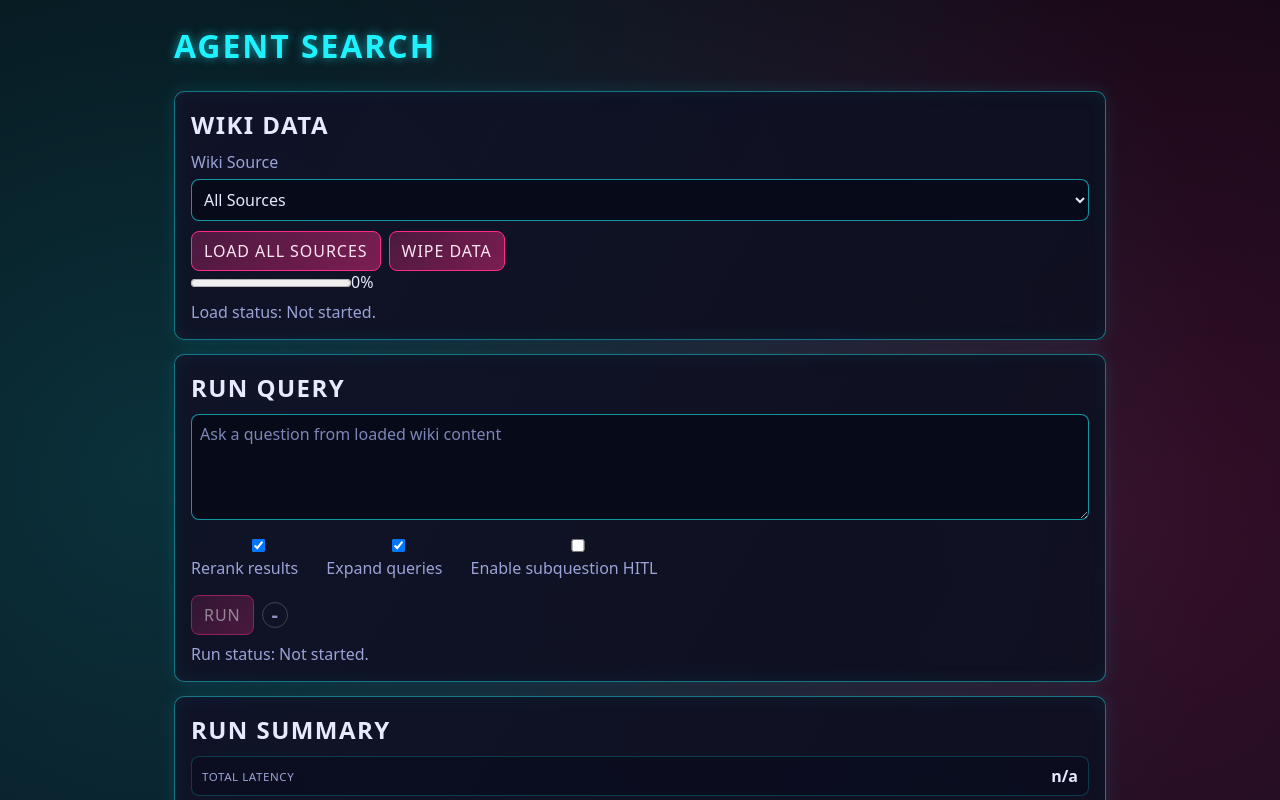
Test: App run query flow › shows an error message when run request fails
Type "What happened?" into the text box with placeholder "Ask a question from loaded wiki content" at [640, 467], box [191,414,1089,520]
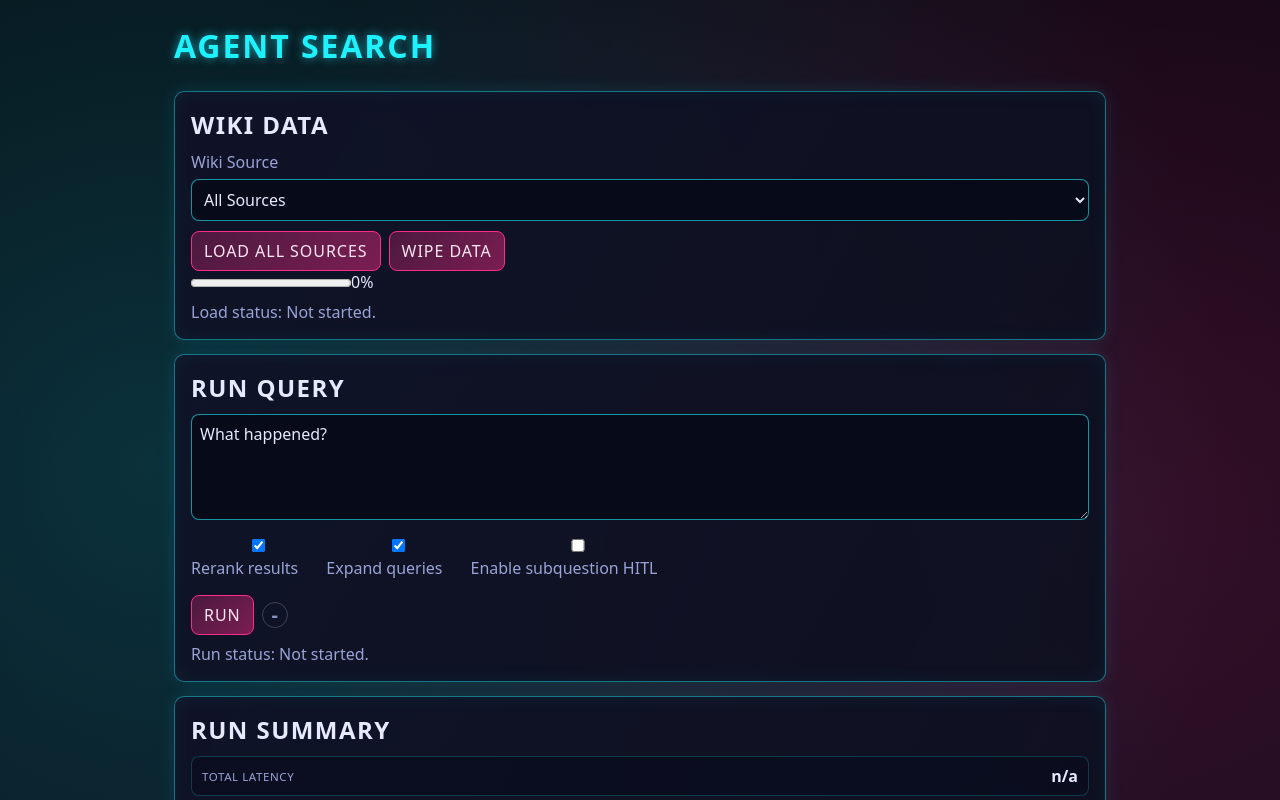
Click the button "Run" at [222, 615], box [191,595,254,635]
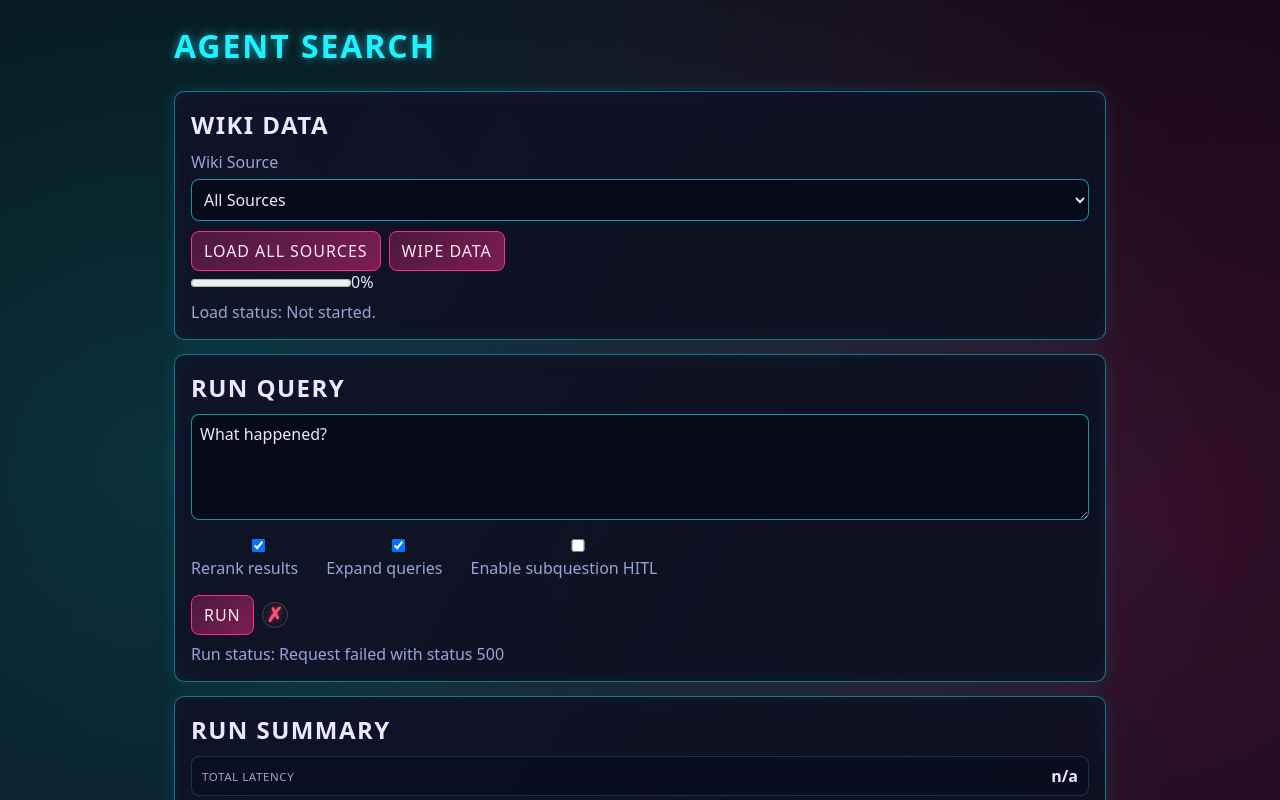
Expected: the text "Run status: Request failed with status 500" is shown, [279,643,504,665]
